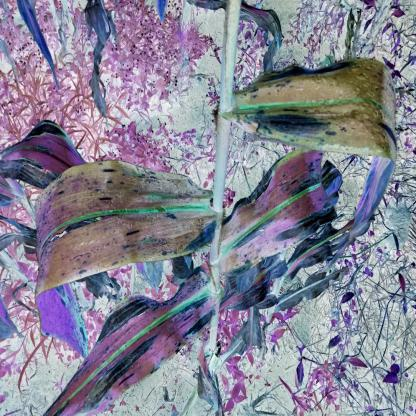corn leaf blight: (12, 158, 216, 369), (29, 266, 210, 416), (236, 68, 401, 232), (227, 140, 365, 286)
